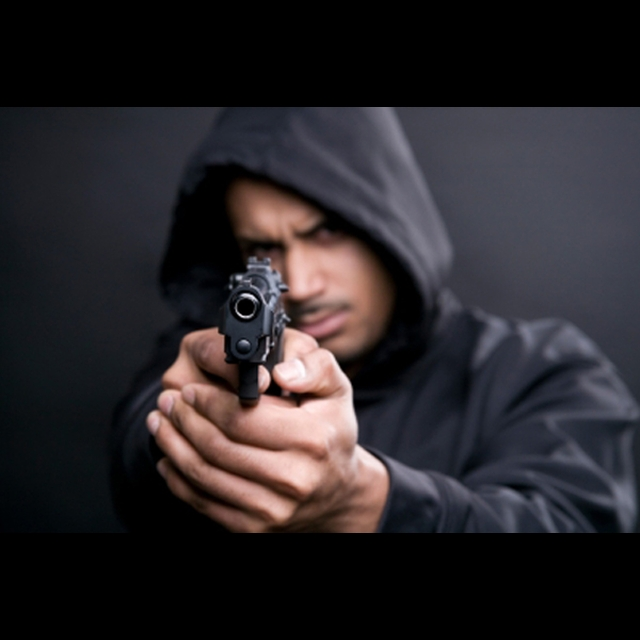SILAH: (209, 257, 315, 452)
